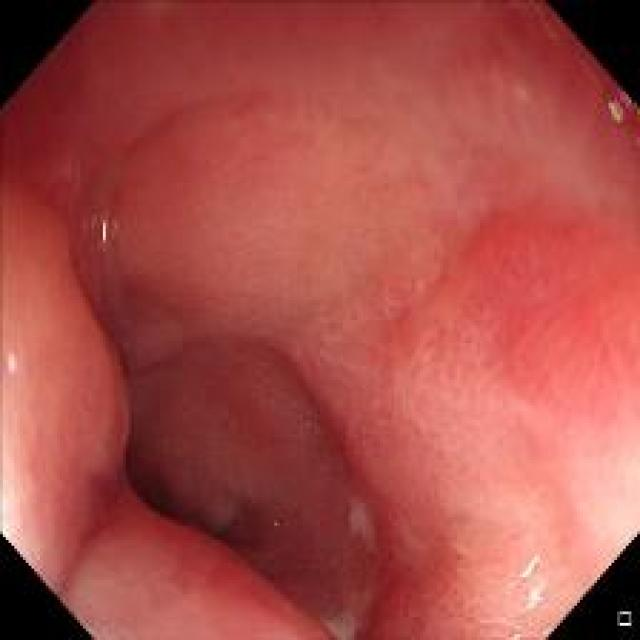bubbles: (322, 588, 371, 636), (304, 402, 326, 442), (269, 515, 282, 529)
color misalignment: (601, 76, 629, 134), (99, 219, 111, 241)
contrast: (124, 425, 261, 552)
saturation: (1, 421, 50, 572)
specularity: (502, 546, 549, 614), (96, 215, 116, 244), (6, 350, 19, 378)
